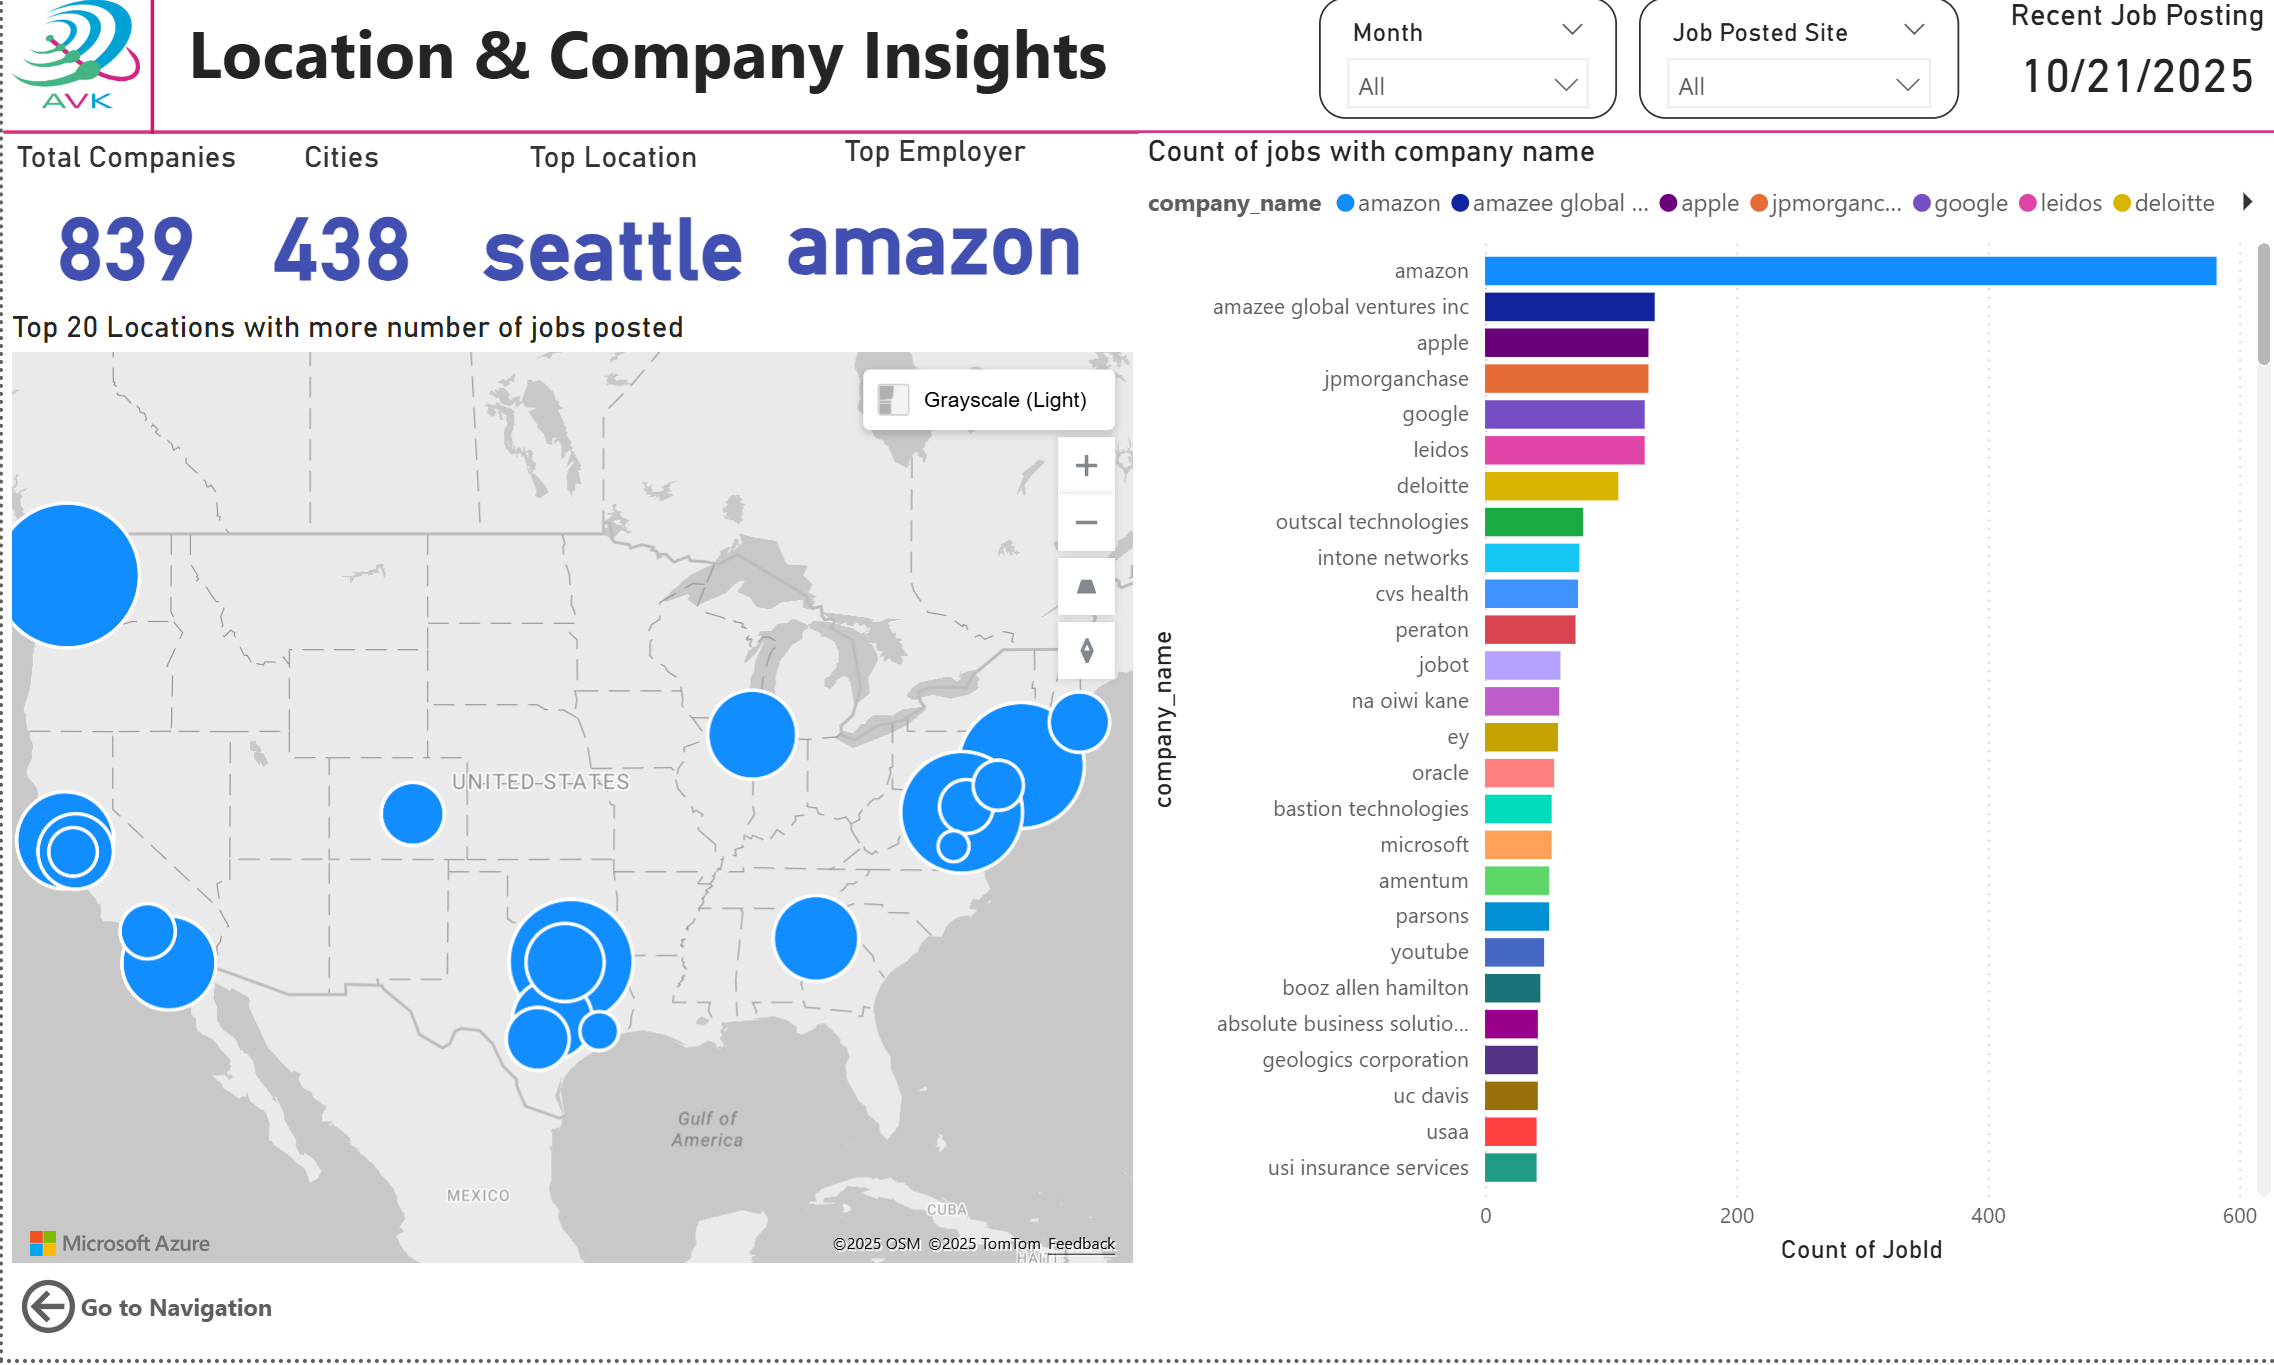

The page's visual inventory and layout, read from the dashboard file:
{"tool":"powerbi","page":{"name":"Company & Location Insights","canvas":[1280,770],"ordinal":5},"visuals":[{"type":"shape","box":[0,70,1280,21.4],"z":0},{"type":"image","box":[0,0,81.9,73.4],"z":1000},{"type":"textbox","box":[99.5,4.7,588.9,61.6],"z":2000},{"type":"shape","box":[70,0,28.6,81.4],"z":3000},{"type":"card","title":"Recent Job Posting","fields":{"Values":["job_data.Recent job date"]},"box":[1120.1,4.9,160.2,66],"z":4000},{"type":"slicer","fields":{"Values":["job_data.job_posted_site"]},"box":[919.6,4.9,179.8,68.5],"z":5000},{"type":"slicer","fields":{"Values":["job_data.job_posted_date.Variation.Date Hierarchy.Month","job_data.job_posted_date.Variation.Date Hierarchy.Day"]},"box":[740.1,4.7,167.6,68.7],"z":6000},{"type":"card","title":"Total Companies","fields":{"Values":["AllMeasures.Total Companies"]},"box":[0,83.8,138.7,96.1],"z":7000},{"type":"card","title":"Cities","fields":{"Values":["AllMeasures.unique Cities"]},"box":[129.1,83.8,122.2,96.1],"z":8000},{"type":"card","title":"Top Location","fields":{"Values":["AllMeasures.Top Hiring City"]},"box":[251.3,83.8,182.7,96.1],"z":9000},{"type":"card","title":"Top Employer","fields":{"Values":["AllMeasures.Top Employer"]},"box":[434,81,179.9,96.1],"z":10000},{"type":"azureMap","fields":{"Category":["job_data.city"],"Size":["CountNonNull(job_data.JobId)"]},"box":[0,179.9,640,541.1],"z":11000},{"type":"barChart","fields":{"Category":["job_data.company_name"],"Y":["CountNonNull(job_data.JobId)"],"Series":["job_data.company_name"]},"box":[638.6,81,641.4,640],"z":12000},{"type":"actionButton","box":[5.5,721,149.7,39.8],"z":12001}]}

Visuals, with their boxes in screenshot pixels (x1, y1, x2, y2), scaled from the page's 1280x770 canvas onto the 2274x1365 screenshot:
shape: Rect(0, 124, 2273, 162)
image: Rect(0, 0, 146, 130)
textbox: Rect(177, 8, 1223, 118)
shape: Rect(124, 0, 175, 144)
"Recent Job Posting" card: Rect(1990, 9, 2273, 126)
slicer - job_data.job_posted_site: Rect(1634, 9, 1953, 130)
slicer - job_data.job_posted_date.Variation.Date Hierarchy.Month x job_data.job_posted_date.Variation.Date Hierarchy.Day: Rect(1315, 8, 1613, 130)
"Total Companies" card: Rect(0, 149, 246, 319)
"Cities" card: Rect(229, 149, 446, 319)
"Top Location" card: Rect(446, 149, 771, 319)
"Top Employer" card: Rect(771, 144, 1091, 314)
azureMap - job_data.city x CountNonNull(job_data.JobId): Rect(0, 319, 1137, 1278)
barChart - job_data.company_name x CountNonNull(job_data.JobId): Rect(1135, 144, 2273, 1278)
actionButton: Rect(10, 1278, 276, 1349)
